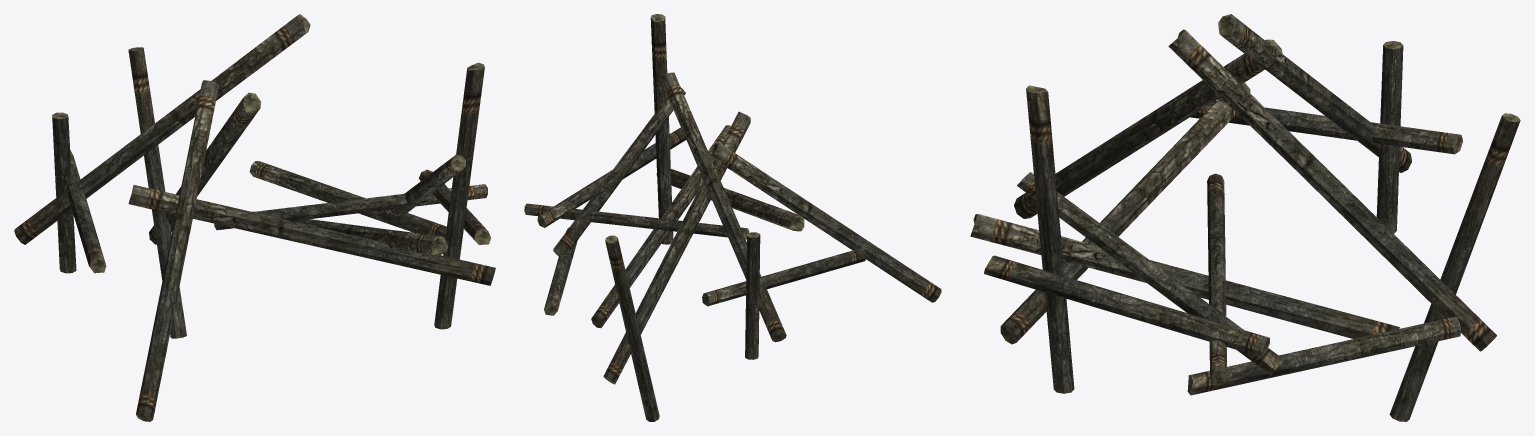
Rendered from camp_woodhut_break00.fbx.
3 views of the same model, side by side, from view 1: azimuth 30°, elevation 25°; view 2: azimuth 150°, elevation 25°; view 3: azimuth 270°, elevation 25° (orthographic). The views are drawn at different scales.
Parts seen in each view (by area): view 1: camp_woodhut_break00; view 2: camp_woodhut_break00; view 3: camp_woodhut_break00.
Part boxes in pixels (x1=…): camp_woodhut_break00: x1=14, y1=14, x2=495, y2=421; camp_woodhut_break00: x1=524, y1=14, x2=941, y2=421; camp_woodhut_break00: x1=970, y1=14, x2=1520, y2=421.
Bounding box in the file's own units: 8.53 × 6.91 × 7.94.
